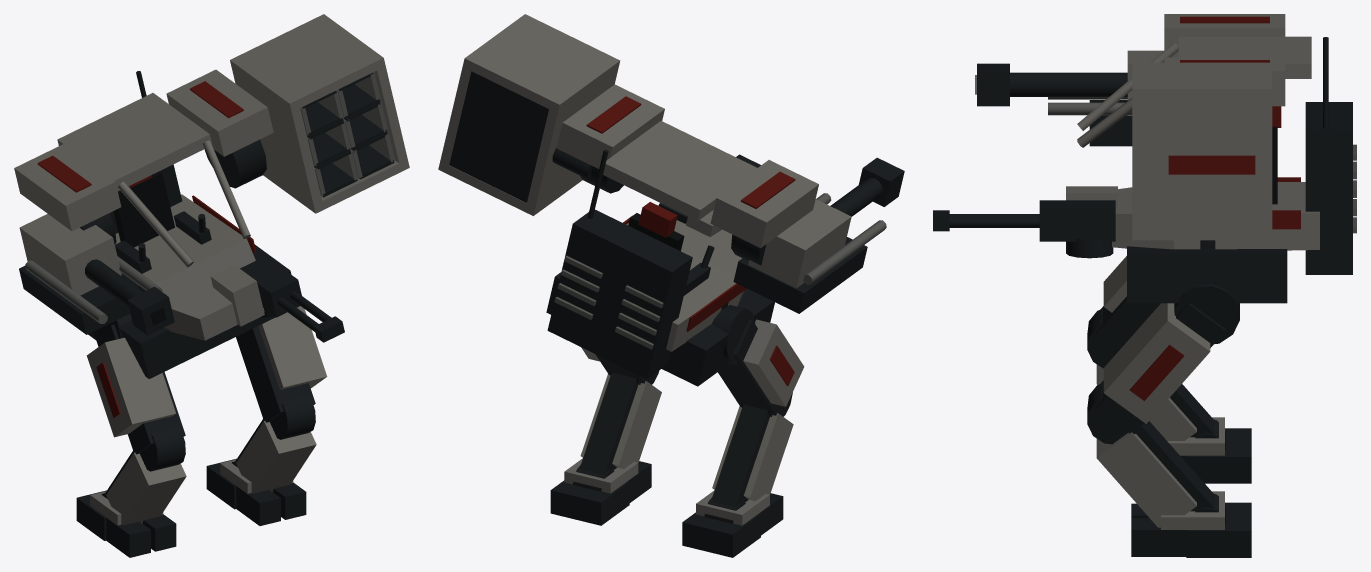
3 renders of one model, left to right at view 1: azimuth 30°, elevation 25°; view 2: azimuth 150°, elevation 25°; view 3: azimuth 270°, elevation 25°, orthographic. The views are drawn at different scales.
Parts seen in each view (by area): view 1: mech-torso-painted, mech-silo-right-painted, mech-cannon-recoil-painted, mech-hip-0-painted, mech-hip-1-painted, mech-mg-pitch-chin-painted, mech-knee-1-painted, mech-knee-0-painted, mech-cannon-pitch-painted, mech-seat-pilot-painted, mech-ankle-1-painted, mech-ankle-0-painted; view 2: mech-torso-painted, mech-silo-right-painted, mech-cannon-recoil-painted, mech-hip-0-painted, mech-knee-0-painted, mech-knee-1-painted, mech-ankle-1-painted, mech-ankle-0-painted, mech-cannon-pitch-painted, mech-seat-pilot-painted, mech-mg-pitch-chin-painted; view 3: mech-torso-painted, mech-silo-right-painted, mech-hip-1-painted, mech-knee-1-painted, mech-ankle-1-painted, mech-mg-pitch-chin-painted, mech-cannon-recoil-painted, mech-ankle-0-painted, mech-knee-0-painted, mech-hip-0-painted, mech-cannon-pitch-painted, mech-mg-yaw-chin-painted (+1 smaller).
Boxes of the visible parts, x1=… form: mech-torso-painted: x1=14, y1=69, x2=291, y2=378; mech-silo-right-painted: x1=230, y1=14, x2=409, y2=213; mech-cannon-recoil-painted: x1=19, y1=214, x2=174, y2=335; mech-hip-0-painted: x1=86, y1=313, x2=185, y2=454; mech-hip-1-painted: x1=236, y1=306, x2=327, y2=422; mech-mg-pitch-chin-painted: x1=210, y1=256, x2=344, y2=342; mech-knee-1-painted: x1=235, y1=395, x2=316, y2=493; mech-knee-0-painted: x1=105, y1=427, x2=186, y2=525; mech-cannon-pitch-painted: x1=19, y1=256, x2=162, y2=334; mech-seat-pilot-painted: x1=113, y1=171, x2=211, y2=273; mech-ankle-1-painted: x1=206, y1=458, x2=306, y2=525; mech-ankle-0-painted: x1=76, y1=490, x2=176, y2=557; mech-torso-painted: x1=546, y1=84, x2=818, y2=386; mech-silo-right-painted: x1=438, y1=14, x2=620, y2=215; mech-cannon-recoil-painted: x1=748, y1=157, x2=904, y2=288; mech-hip-0-painted: x1=712, y1=305, x2=804, y2=415; mech-knee-0-painted: x1=711, y1=392, x2=793, y2=506; mech-knee-1-painted: x1=579, y1=371, x2=661, y2=474; mech-ankle-1-painted: x1=550, y1=458, x2=651, y2=525; mech-ankle-0-painted: x1=682, y1=490, x2=783, y2=557; mech-cannon-pitch-painted: x1=733, y1=193, x2=886, y2=313; mech-seat-pilot-painted: x1=628, y1=202, x2=714, y2=295; mech-mg-pitch-chin-painted: x1=658, y1=154, x2=760, y2=236; mech-torso-painted: x1=1077, y1=14, x2=1356, y2=303; mech-silo-right-painted: x1=1132, y1=62, x2=1272, y2=240; mech-hip-1-painted: x1=1095, y1=284, x2=1239, y2=433; mech-knee-1-painted: x1=1087, y1=383, x2=1214, y2=527; mech-ankle-1-painted: x1=1131, y1=491, x2=1251, y2=557; mech-mg-pitch-chin-painted: x1=933, y1=186, x2=1117, y2=241; mech-cannon-recoil-painted: x1=975, y1=50, x2=1163, y2=115; mech-ankle-0-painted: x1=1167, y1=417, x2=1251, y2=483; mech-knee-0-painted: x1=1087, y1=309, x2=1214, y2=440; mech-hip-0-painted: x1=1095, y1=256, x2=1160, y2=350; mech-cannon-pitch-painted: x1=1048, y1=97, x2=1132, y2=146; mech-mg-yaw-chin-painted: x1=1066, y1=238, x2=1113, y2=258.
Size of the model in its own units: 22.18 by 26.71 by 20.04.
